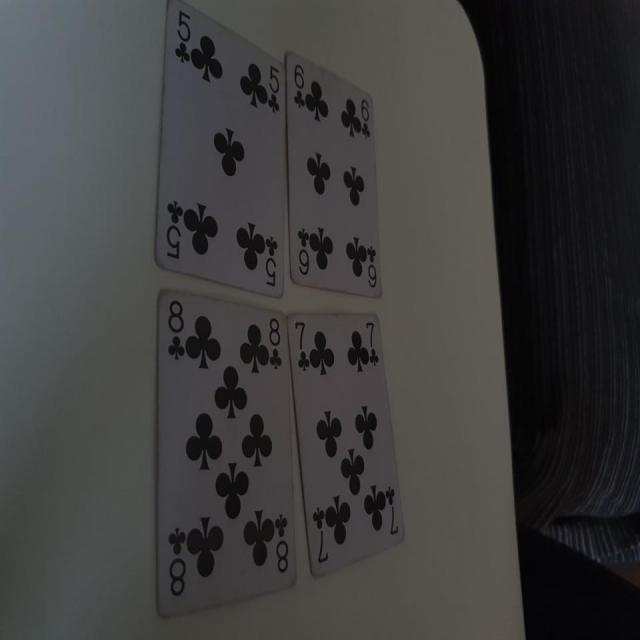5 Trefoils: (152, 1, 285, 299)
6 Trefoils: (284, 50, 385, 298)
7 Trefoils: (287, 310, 408, 579)
8 Trefoils: (156, 288, 297, 621)
